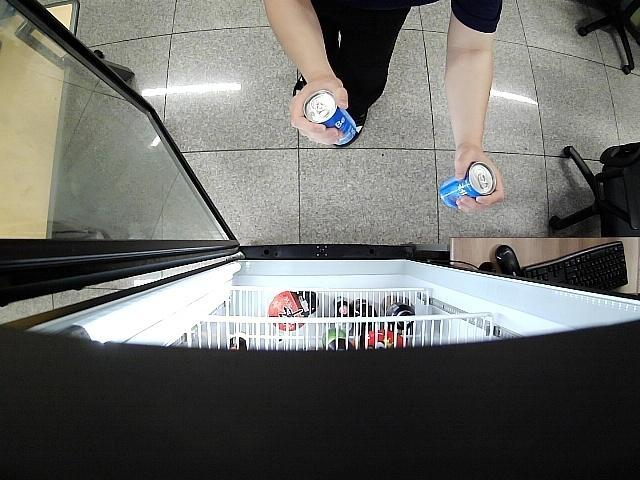15_letsbe: (304, 88, 358, 148), (438, 162, 496, 208)
